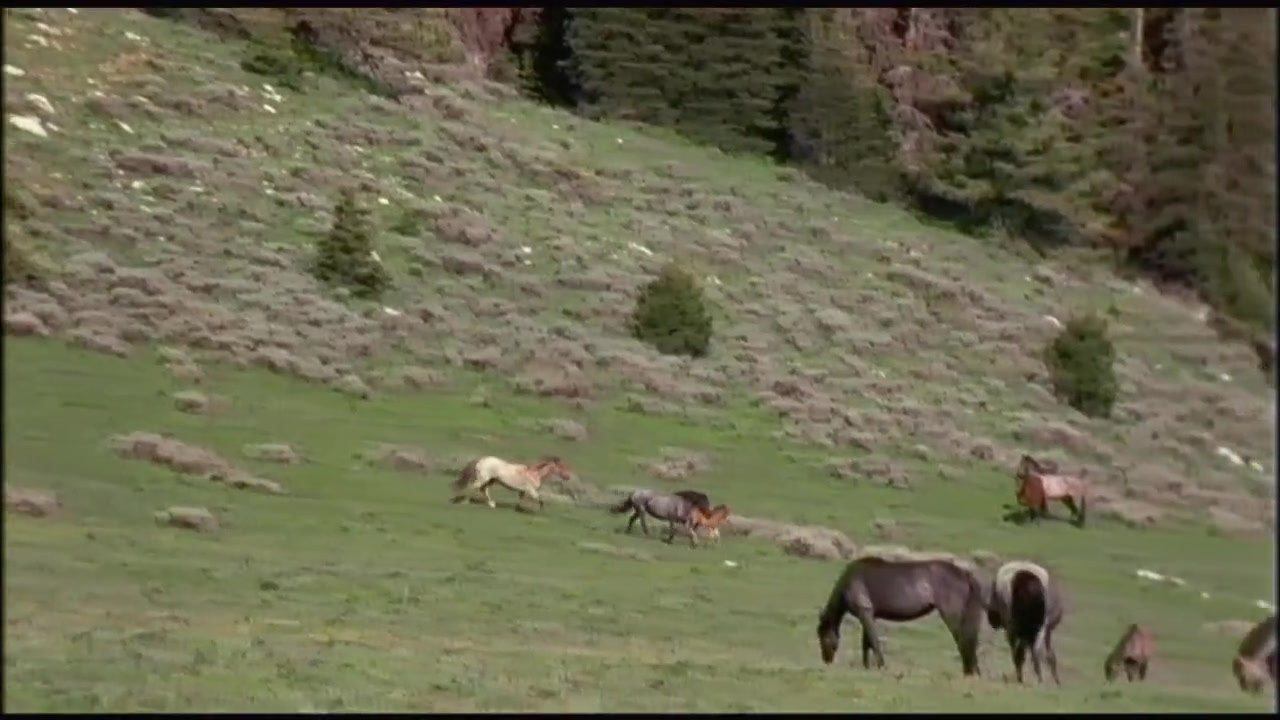horse: (816, 557, 990, 683)
